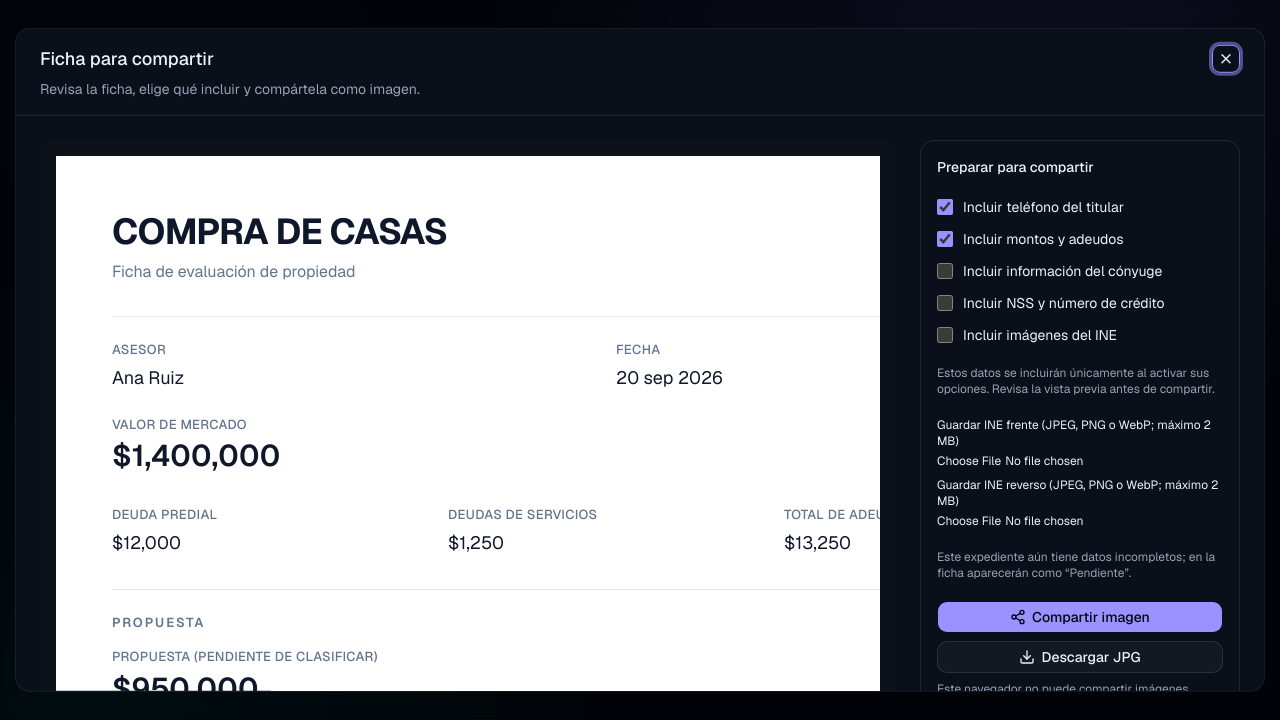
it: RenovaShareDialog — JPG export › treats an empty result from the renderer as an error
The image size is (1280, 720).
Click the button "Descargar JPG".
click(1080, 657)  # box [937,641,1223,673]
(page scrolled)
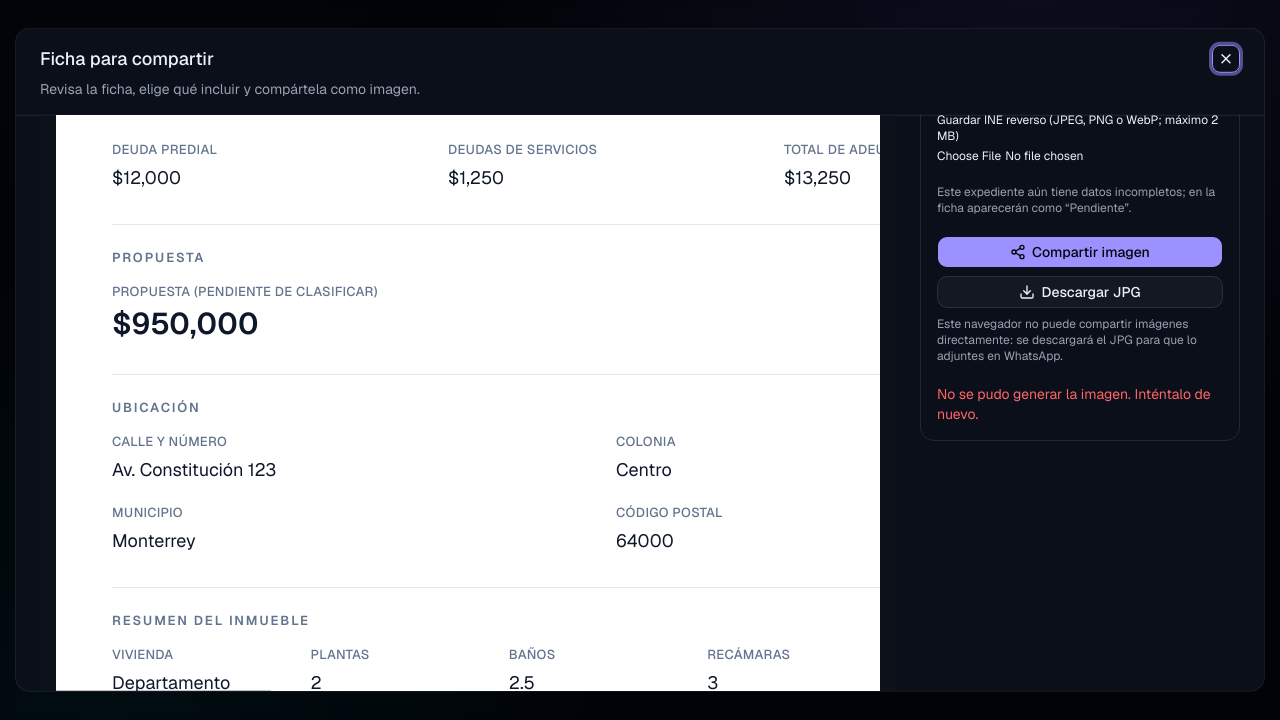
expect the message shows "No se pudo generar la imagen": met, box [937,385,1211,423]
